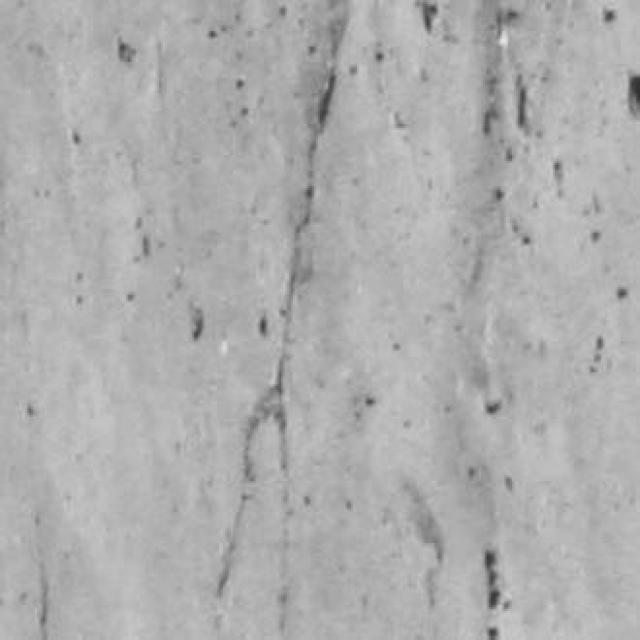crack: (216, 16, 347, 638), (274, 24, 345, 638), (216, 386, 281, 597), (35, 512, 50, 639), (39, 563, 48, 639)
